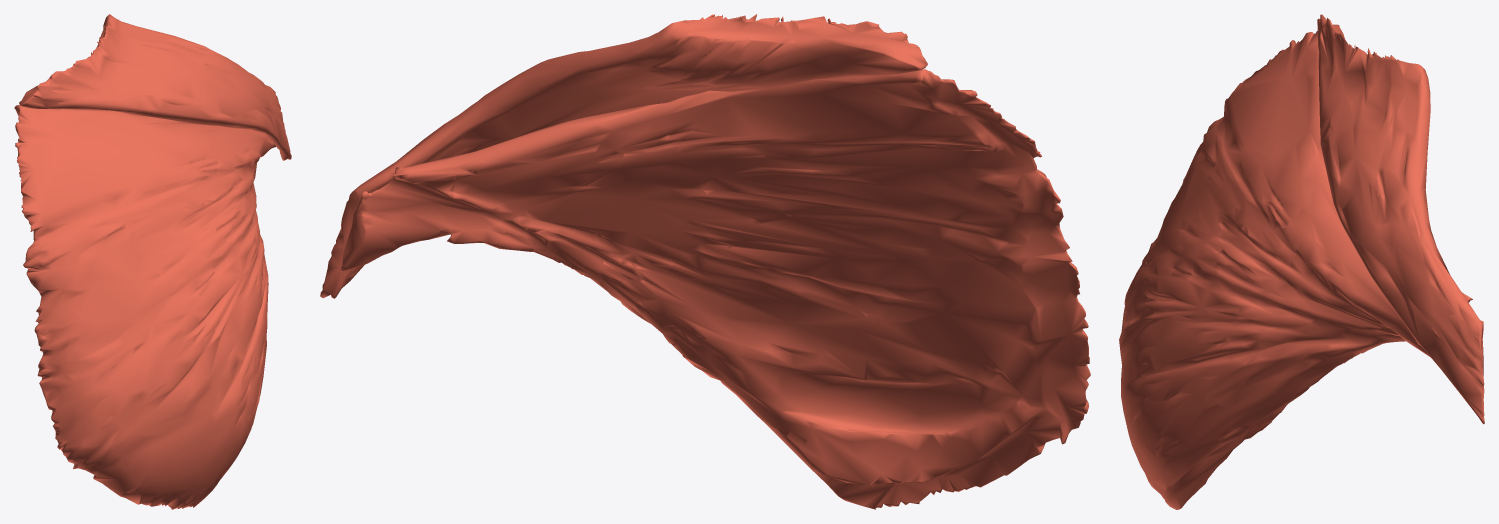
Rendered from pectoralis-major.glb.
The picture shows the model from 3 angles, left to right: view 1: azimuth 30°, elevation 25°; view 2: azimuth 150°, elevation 25°; view 3: azimuth 270°, elevation 25°; orthographic projection. The views are drawn at different scales.
Visible parts, largest first — view 1: Sternocostal head of pectoralis major muscle.l, Clavicular head of pectoralis major muscle.l; view 2: Sternocostal head of pectoralis major muscle.l, Clavicular head of pectoralis major muscle.l; view 3: Sternocostal head of pectoralis major muscle.l, Clavicular head of pectoralis major muscle.l.
Part boxes in pixels (box(x1,y1,x2,y2)): Sternocostal head of pectoralis major muscle.l: box(14, 104, 276, 509); Clavicular head of pectoralis major muscle.l: box(19, 14, 291, 160); Sternocostal head of pectoralis major muscle.l: box(341, 69, 1090, 509); Clavicular head of pectoralis major muscle.l: box(320, 14, 927, 298); Sternocostal head of pectoralis major muscle.l: box(1119, 31, 1483, 509); Clavicular head of pectoralis major muscle.l: box(1317, 14, 1484, 424).
Bounding box in the file's own units: 0.1967 × 0.1968 × 0.1427.
